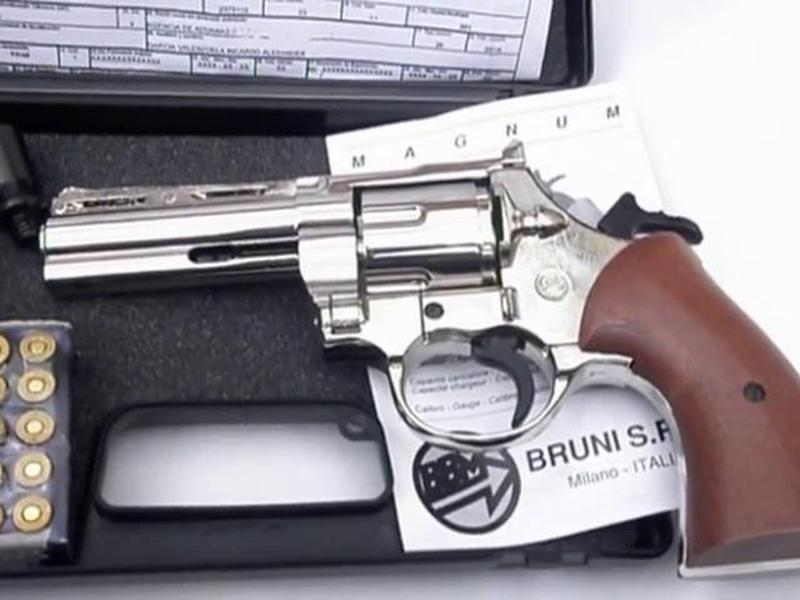Revolver: (56, 114, 656, 470)
